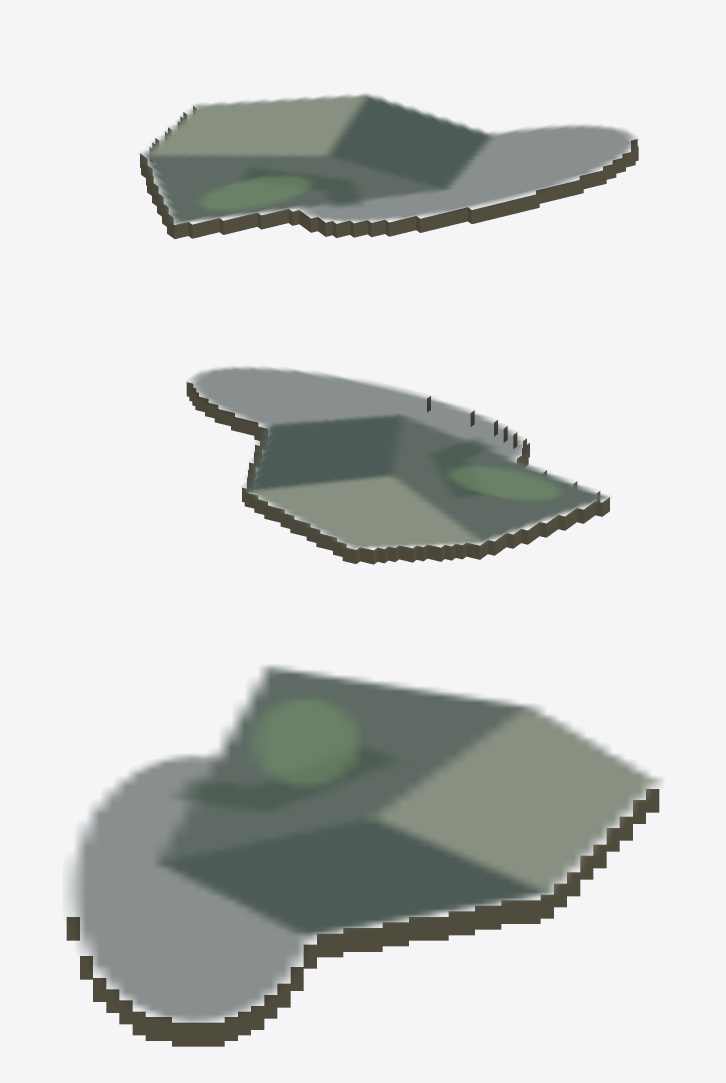
The model's file is Gravel.glb.
3 renders of one model, top to bottom at view 1: azimuth 30°, elevation 25°; view 2: azimuth 150°, elevation 25°; view 3: azimuth 270°, elevation 25°, orthographic. The views are drawn at different scales.
Visible parts, largest first — view 1: Visual; view 2: Visual; view 3: Visual.
Boxes of the visible parts, x1,y1,x2,y2 form: Visual: (140,93,638,238); Visual: (186,367,610,564); Visual: (66,665,662,1046).
Bounding box in the file's own units: 0.72 × 0.02 × 0.53.
3 materials, 2 textured.
